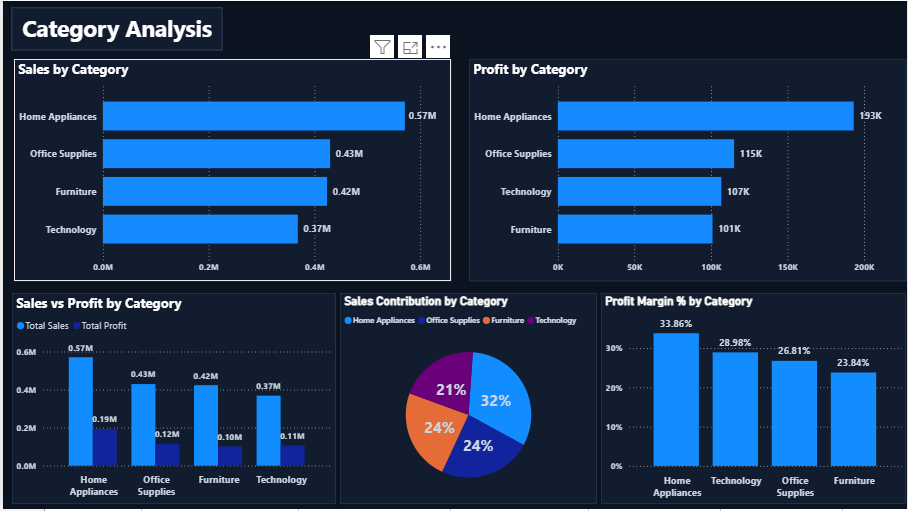

The dashboard page shown, as its layout file describes it:
{"tool":"powerbi","page":{"name":"Category Analysis","canvas":[1280,720],"ordinal":3},"visuals":[{"type":"textbox","box":[11.3,8.5,300.5,62.4],"z":0},{"type":"clusteredBarChart","title":"Sales by Category","fields":{"Category":["Dim_Product.Category"],"Y":["ALL_DAX.Total Sales"]},"box":[15.6,82.2,620,314.6],"z":1000},{"type":"clusteredBarChart","title":"Profit by Category","fields":{"Category":["Dim_Product.Category"],"Y":["ALL_DAX.Total Profit"]},"box":[660.5,82.2,620,314.6],"z":2000},{"type":"clusteredColumnChart","title":"Sales vs Profit by Category","fields":{"Category":["Dim_Product.Category"],"Y":["ALL_DAX.Total Sales","ALL_DAX.Total Profit"]},"box":[12.8,413.9,459.2,299.1],"z":3000},{"type":"clusteredColumnChart","title":"Profit Margin % by Category","fields":{"Category":["Dim_Product.Category"],"Y":["ALL_DAX.Profit Margin %"]},"box":[847.6,413.9,432.3,299.1],"z":4000},{"type":"pieChart","title":"Sales Contribution by Category","fields":{"Category":["Dim_Product.Category"],"Y":["ALL_DAX.Total Sales"]},"box":[477.6,413.9,364.3,299.1],"z":5000}]}

Visuals, with their boxes in screenshot pixels (x1, y1, x2, y2), scaled from the page's 1280x720 canvas onto the 908x511 screenshot:
textbox: left=8, top=6, right=221, bottom=50
"Sales by Category" clusteredBarChart: left=11, top=58, right=451, bottom=282
"Profit by Category" clusteredBarChart: left=469, top=58, right=907, bottom=282
"Sales vs Profit by Category" clusteredColumnChart: left=9, top=294, right=335, bottom=506
"Profit Margin % by Category" clusteredColumnChart: left=601, top=294, right=907, bottom=506
"Sales Contribution by Category" pieChart: left=339, top=294, right=597, bottom=506
